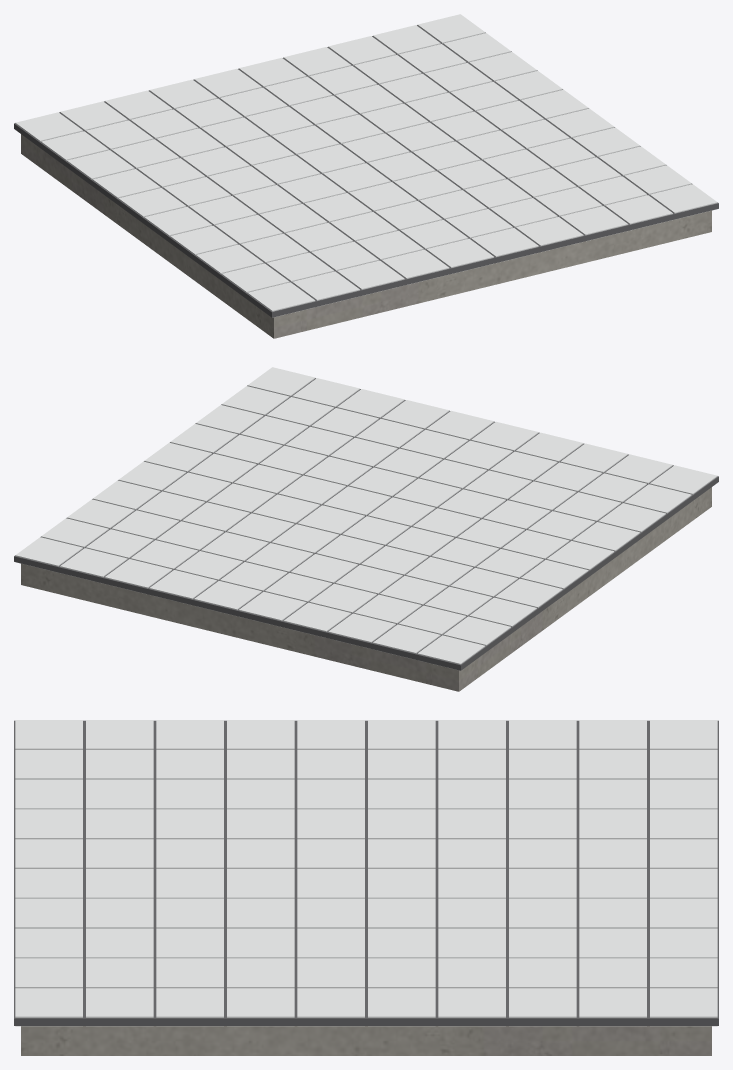
The model's file is floor_wc_g.glb.
3 views of the same model, one above another, from view 1: azimuth 30°, elevation 25°; view 2: azimuth 150°, elevation 25°; view 3: azimuth 270°, elevation 25° (orthographic). The views are drawn at different scales.
Parts seen in each view (by area): view 1: floor_wc_g_tile, floor_wc_g_concrete, floor_wc_g_dark; view 2: floor_wc_g_tile, floor_wc_g_concrete, floor_wc_g_dark; view 3: floor_wc_g_tile, floor_wc_g_concrete, floor_wc_g_dark.
Boxes of the visible parts, left/top/right/bottom form: floor_wc_g_tile: left=15, top=14, right=717, bottom=317; floor_wc_g_concrete: left=21, top=134, right=711, bottom=338; floor_wc_g_dark: left=14, top=25, right=718, bottom=317; floor_wc_g_tile: left=15, top=367, right=717, bottom=670; floor_wc_g_concrete: left=21, top=487, right=711, bottom=691; floor_wc_g_dark: left=14, top=378, right=718, bottom=670; floor_wc_g_tile: left=15, top=720, right=717, bottom=1026; floor_wc_g_concrete: left=21, top=1026, right=711, bottom=1055; floor_wc_g_dark: left=14, top=720, right=718, bottom=1025.
Size of the model in its own units: 2 by 0.13 by 2.
3 materials, 1 textured.
